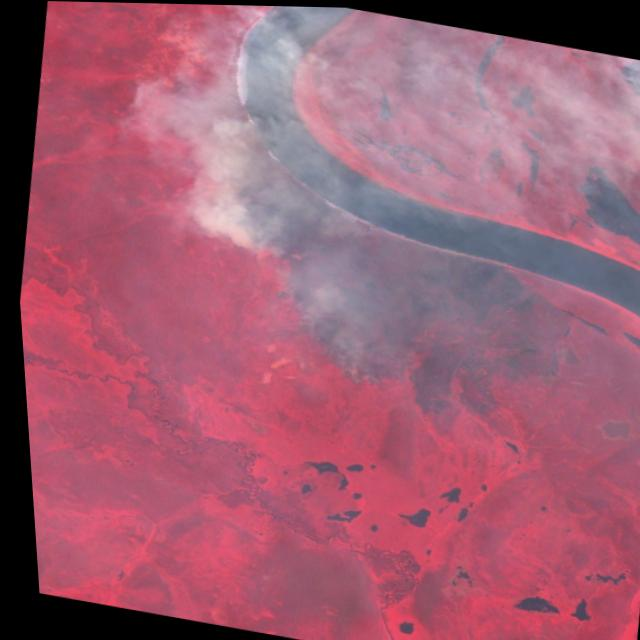fire: (190, 152, 438, 395)
